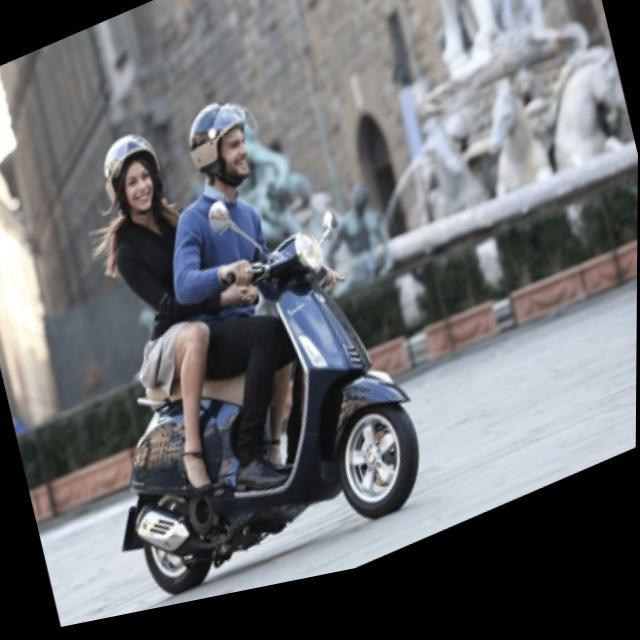Helmet: (183, 89, 260, 195), (96, 129, 169, 211)
